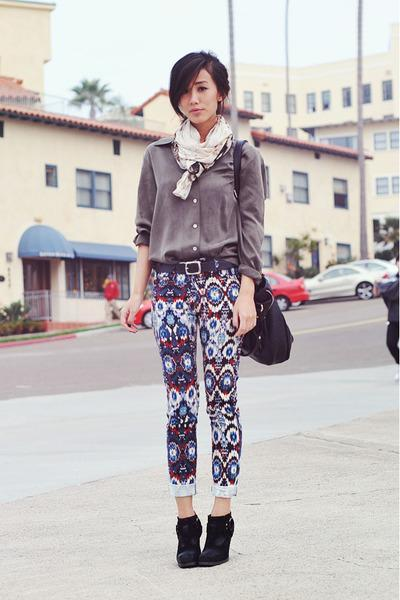bag: (236, 276, 299, 364)
jacket: (132, 133, 278, 299)
pants: (145, 260, 258, 497)
shoe: (176, 512, 233, 568)
